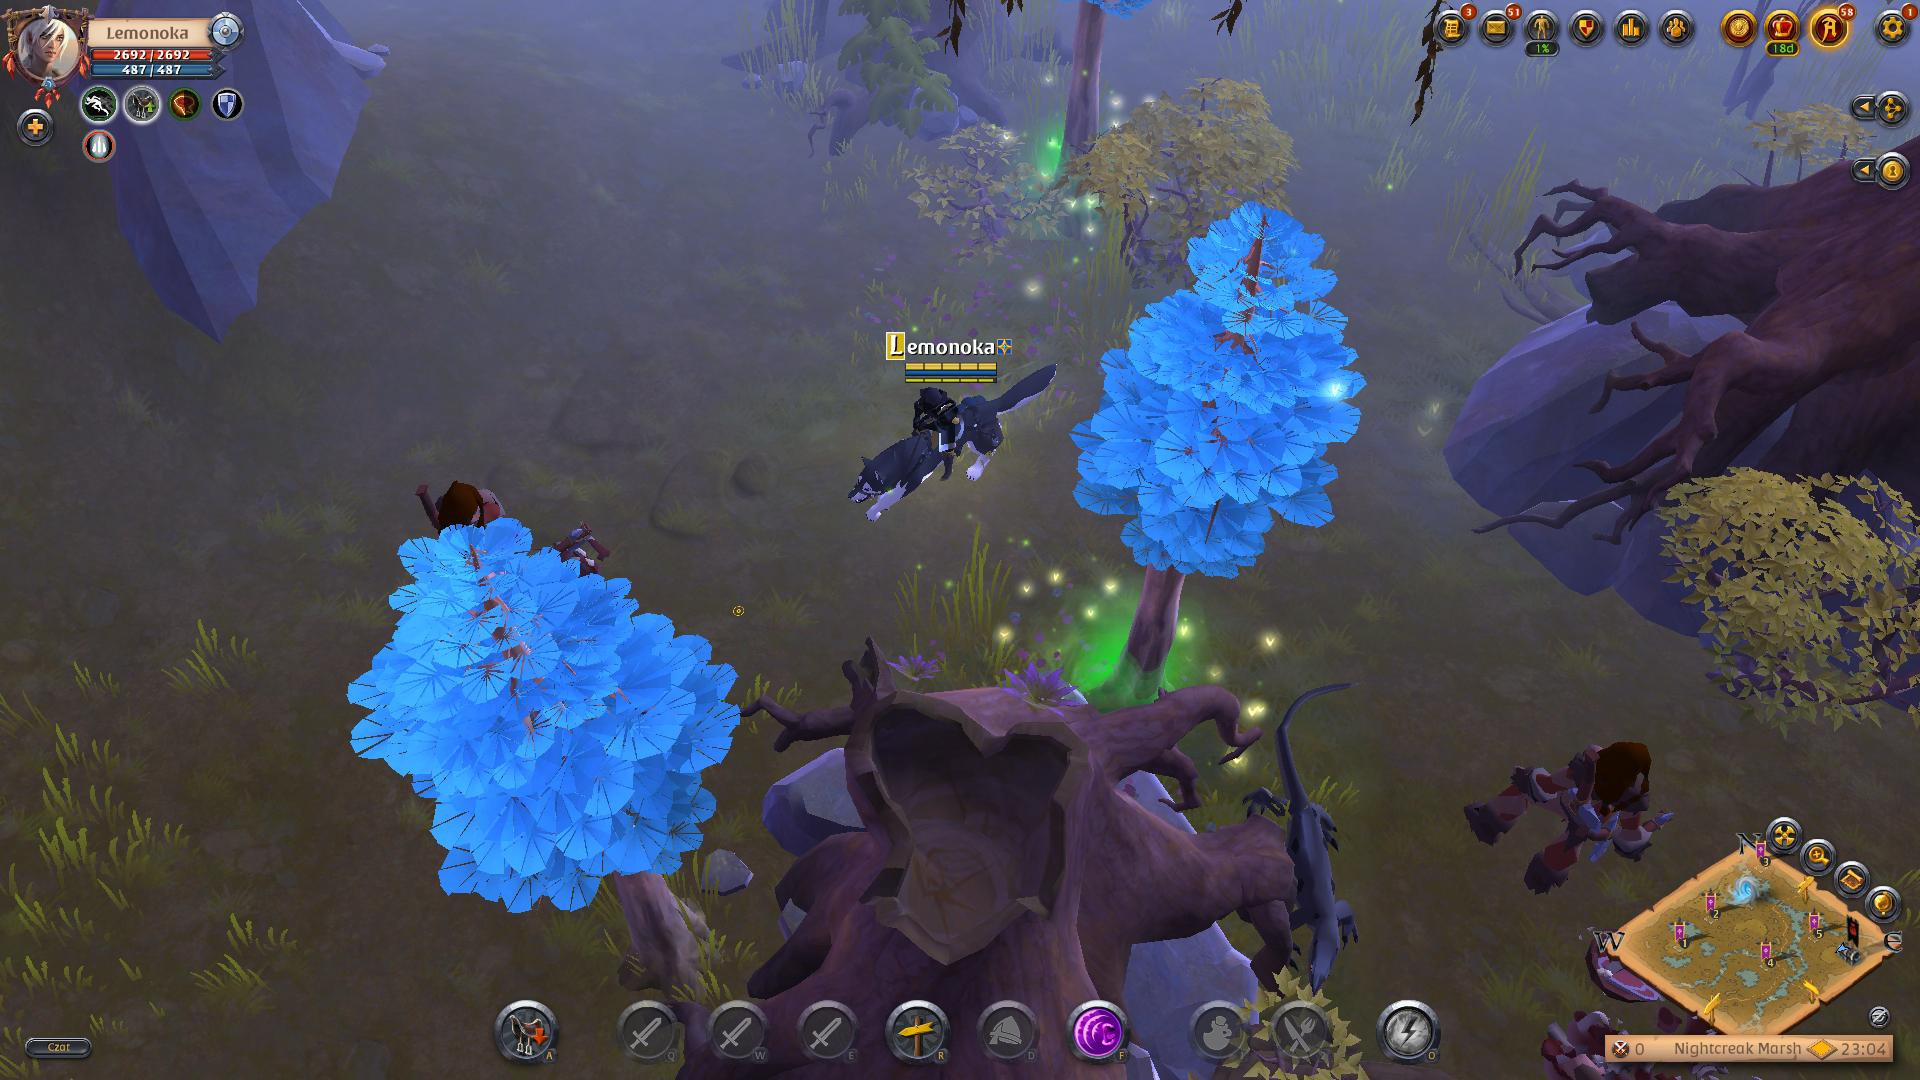wood tier 4: (342, 516, 748, 910), (1073, 196, 1370, 583)
